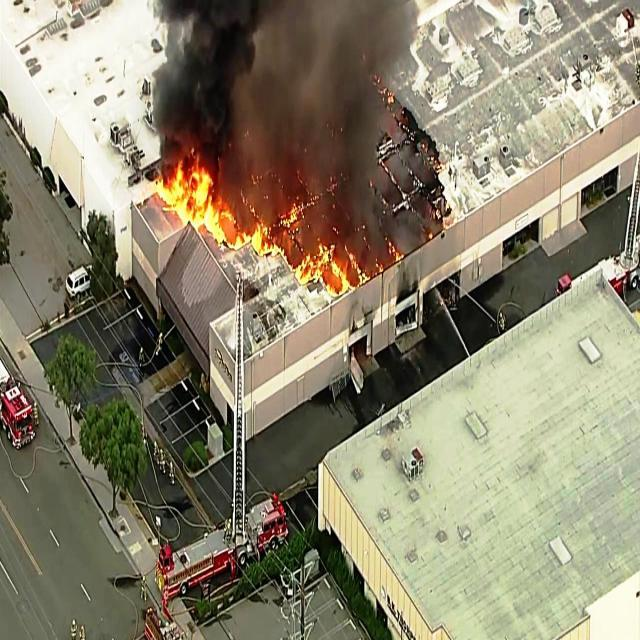Fire: (162, 158, 217, 240)
Smoke: (148, 0, 248, 167)
